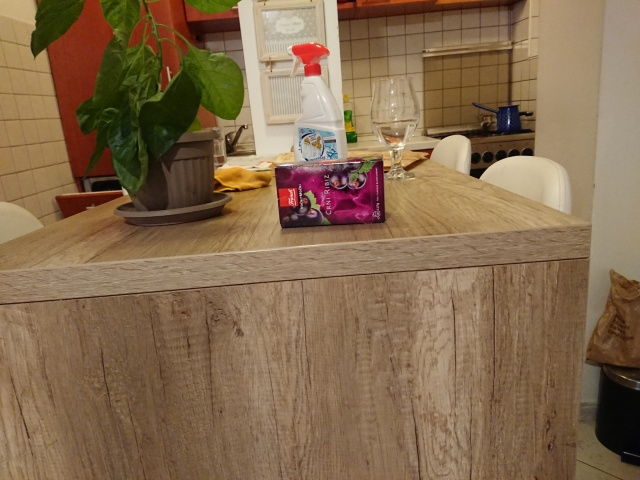Franck Black Currant Tea 60g: (271, 153, 388, 231)
